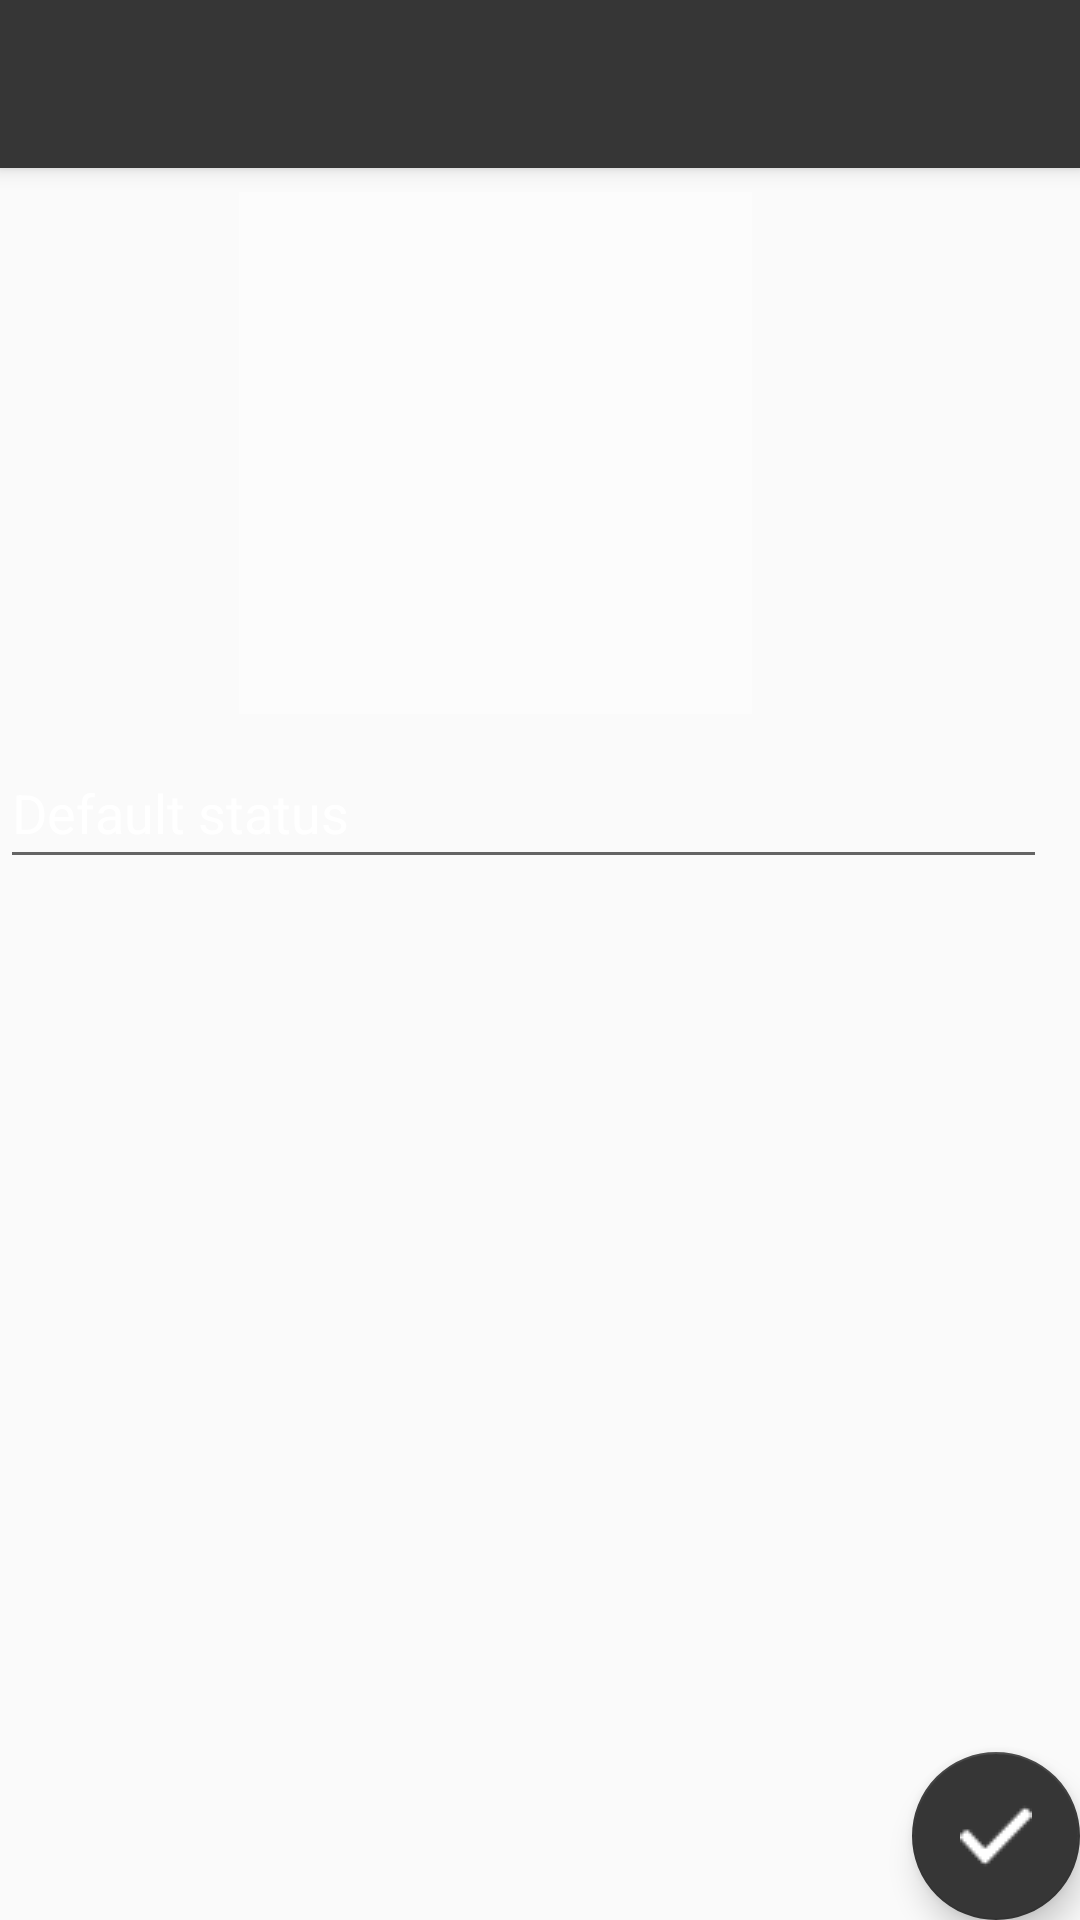

Screen size 1080 x 1920. Icon name, then its box in pixels as (x1, y1, x2, y2):
checked: (912, 1752, 1080, 1920)
